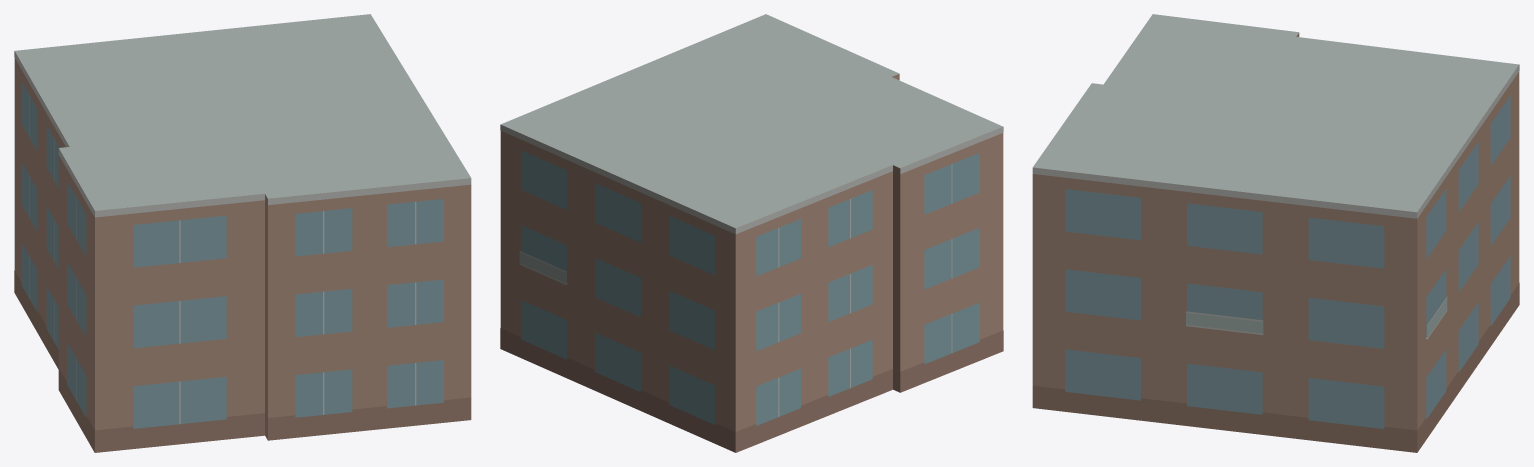
Rendered from survey-upis-32993795.glb.
The picture shows the model from 3 angles, left to right: view 1: azimuth 30°, elevation 25°; view 2: azimuth 150°, elevation 25°; view 3: azimuth 270°, elevation 25°; orthographic projection. The views are drawn at different scales.
Parts seen in each view (by area): view 1: survey-upis-32993795.tmp; view 2: survey-upis-32993795.tmp; view 3: survey-upis-32993795.tmp.
Boxes of the visible parts, x1,y1,x2,y2 form: survey-upis-32993795.tmp: (14, 14, 471, 452); survey-upis-32993795.tmp: (500, 14, 1003, 452); survey-upis-32993795.tmp: (1032, 14, 1519, 452).
Size of the model in its own units: 16.19 by 9.15 by 16.8.
